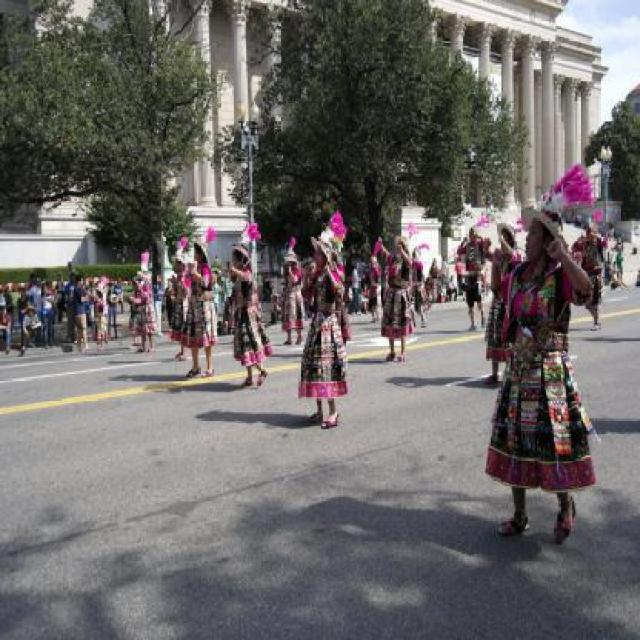Person: (484, 188, 596, 549), (346, 221, 520, 385), (0, 257, 188, 368), (302, 226, 346, 428), (560, 203, 638, 297), (228, 241, 269, 385), (186, 238, 220, 377), (571, 218, 607, 329), (282, 247, 300, 347)
